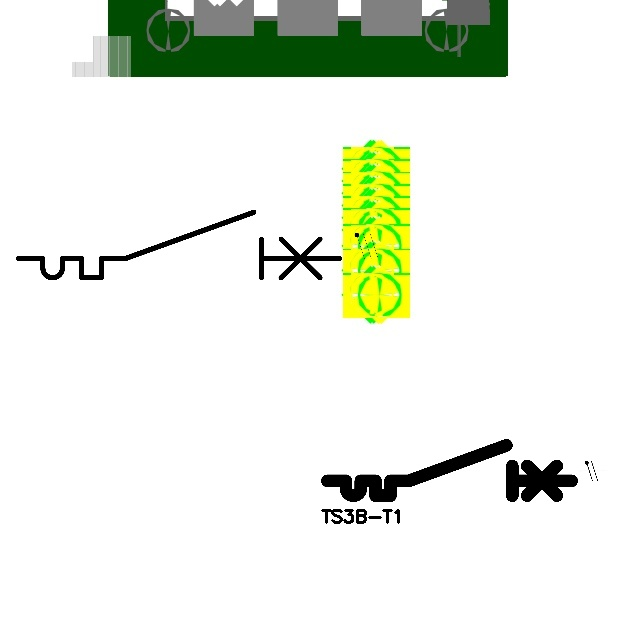interruptor_termomagnetico: (10, 204, 347, 286), (321, 439, 577, 502)
